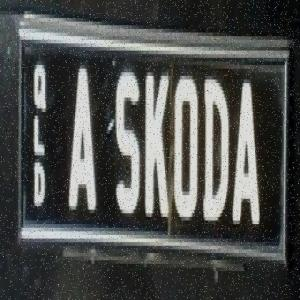Plate: (13, 16, 292, 279)
